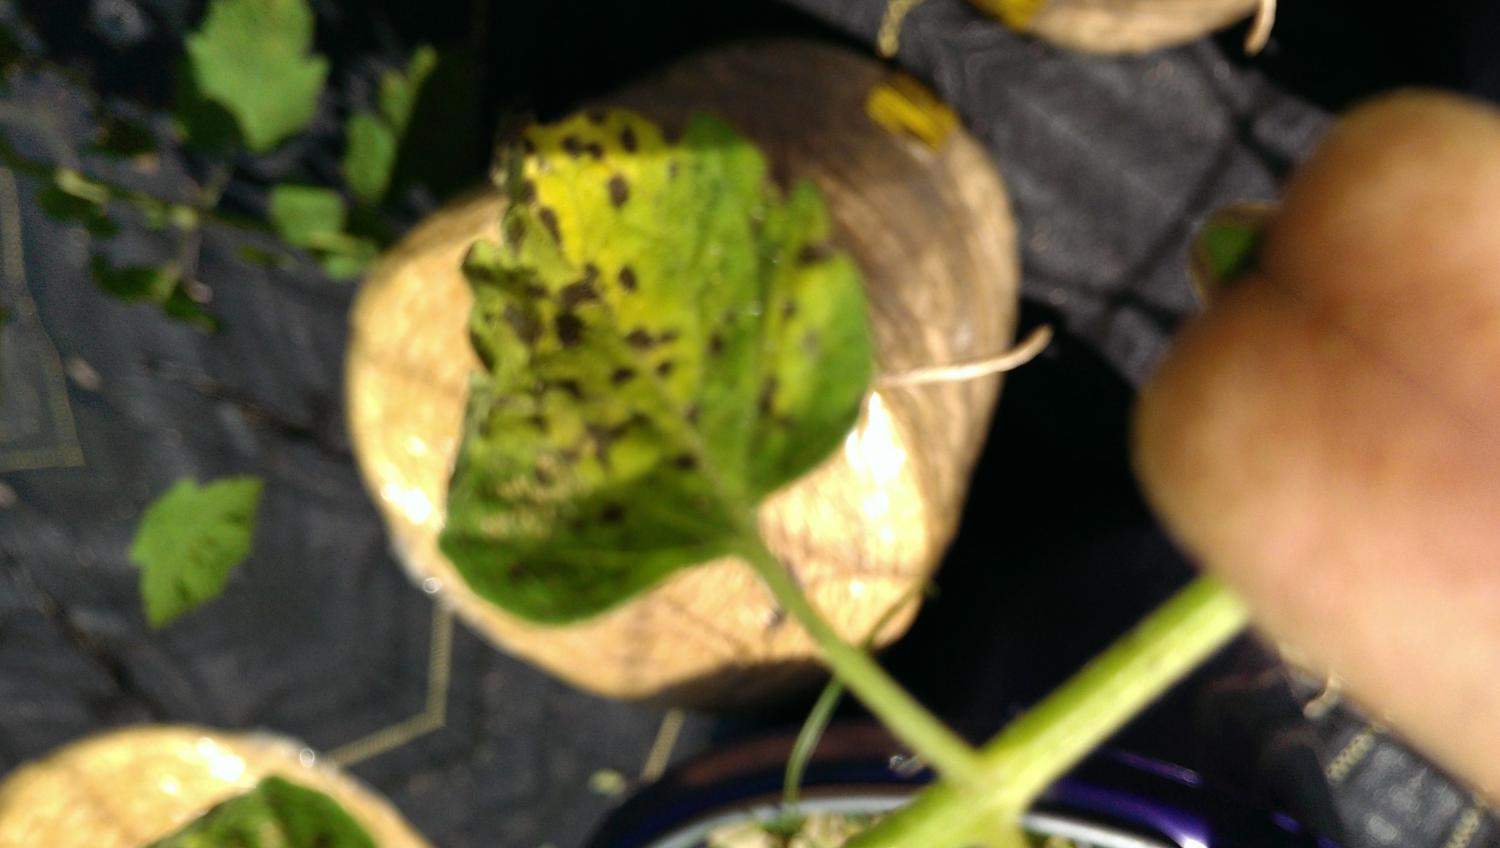Tomato Septoria leaf spot: (258, 0, 1023, 747)
